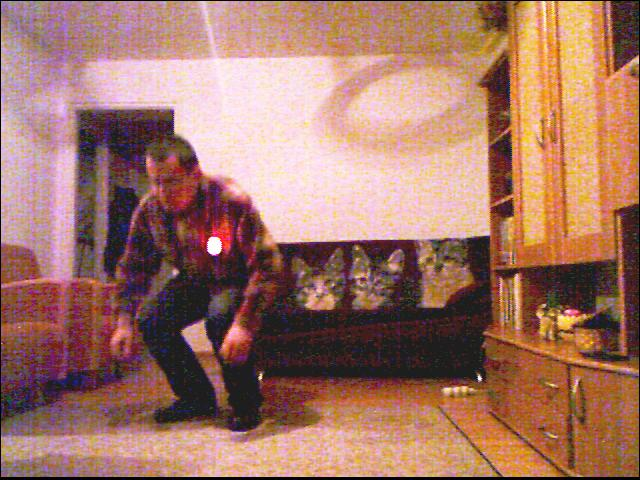sitting: (103, 132, 310, 445)
